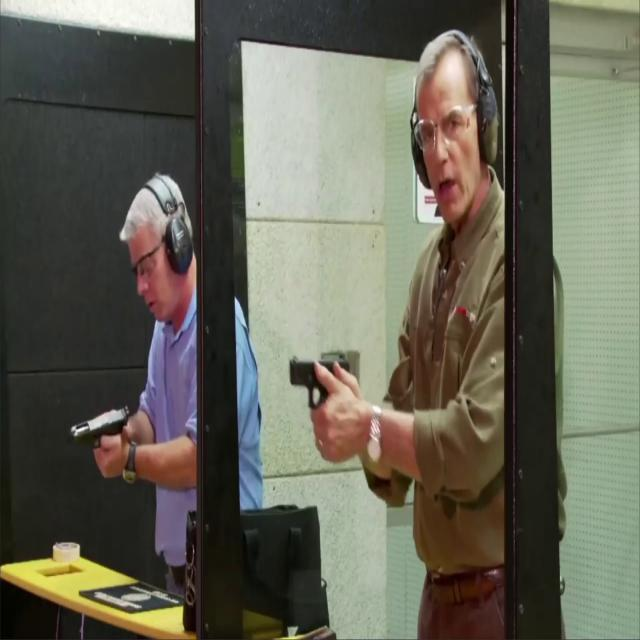gun: (289, 355, 351, 420), (70, 404, 130, 454)
